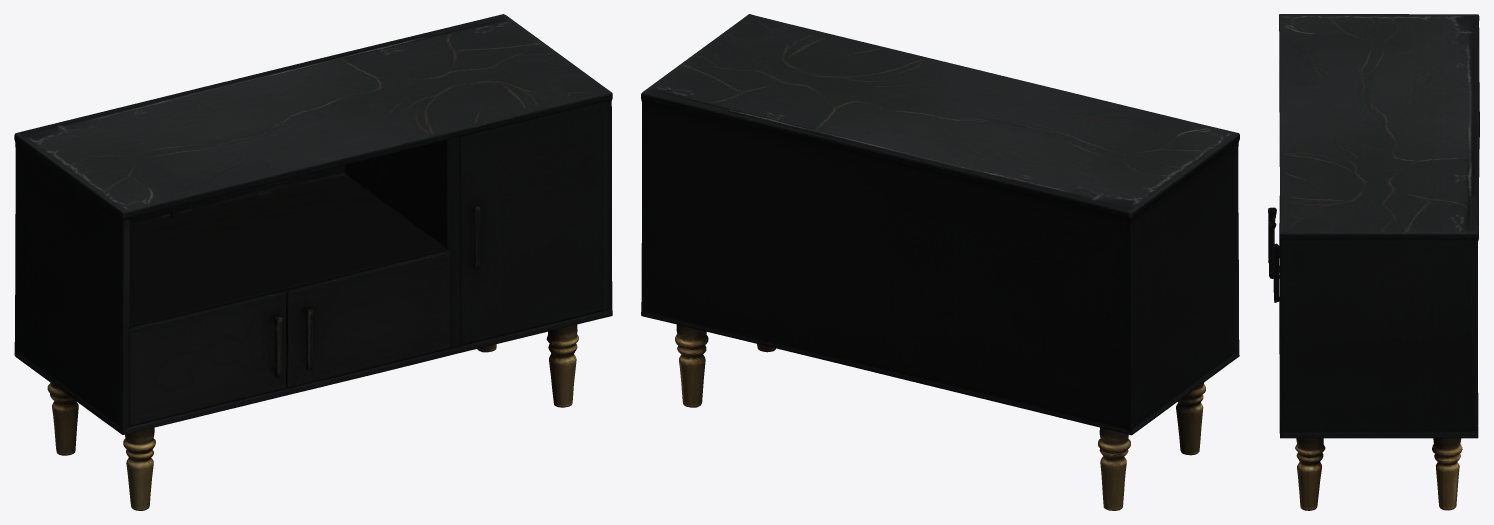
Rendered from ROY Side Board.glb.
3 views of the same model, side by side, from view 1: azimuth 30°, elevation 25°; view 2: azimuth 150°, elevation 25°; view 3: azimuth 270°, elevation 25° (orthographic). The views are drawn at different scales.
Visible parts, largest first — view 1: world; view 2: world; view 3: world.
Part boxes in pixels (box(x1,y1,x2,y2)): world: box(14, 14, 612, 510); world: box(641, 14, 1239, 510); world: box(1268, 14, 1479, 510).
Bounding box in the file's own units: 1 × 0.6146 × 0.4076.
Materials: 1 (1 with a texture image).
